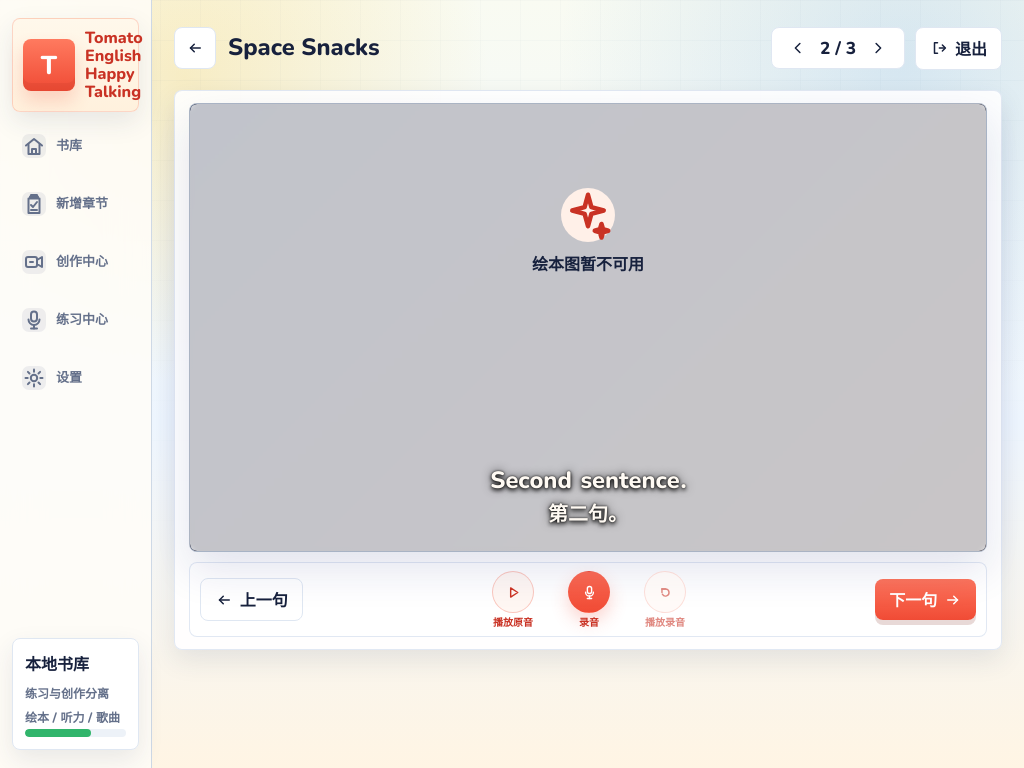
it: App › moves with silent pager controls and keeps bottom next auto-play
Expected: the heading named "Second sentence." is shown, [489, 464, 687, 496]
Click the button named "前一条句子（不自动播放）" at point(798, 48), box [784, 34, 812, 62]
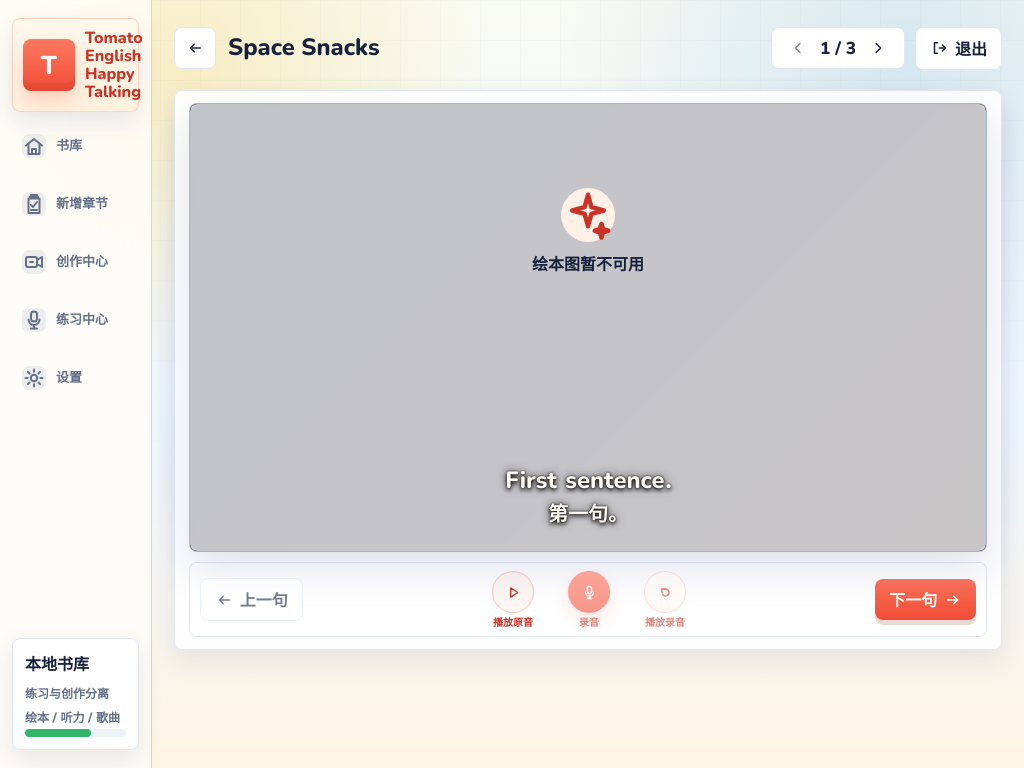
Expected: the heading named "First sentence." is shown, [504, 464, 672, 496]
Expected: the button "上一句" is disabled, [200, 578, 303, 621]
Click the button named "后一条句子（不自动播放）" at point(878, 48), box [864, 34, 892, 62]
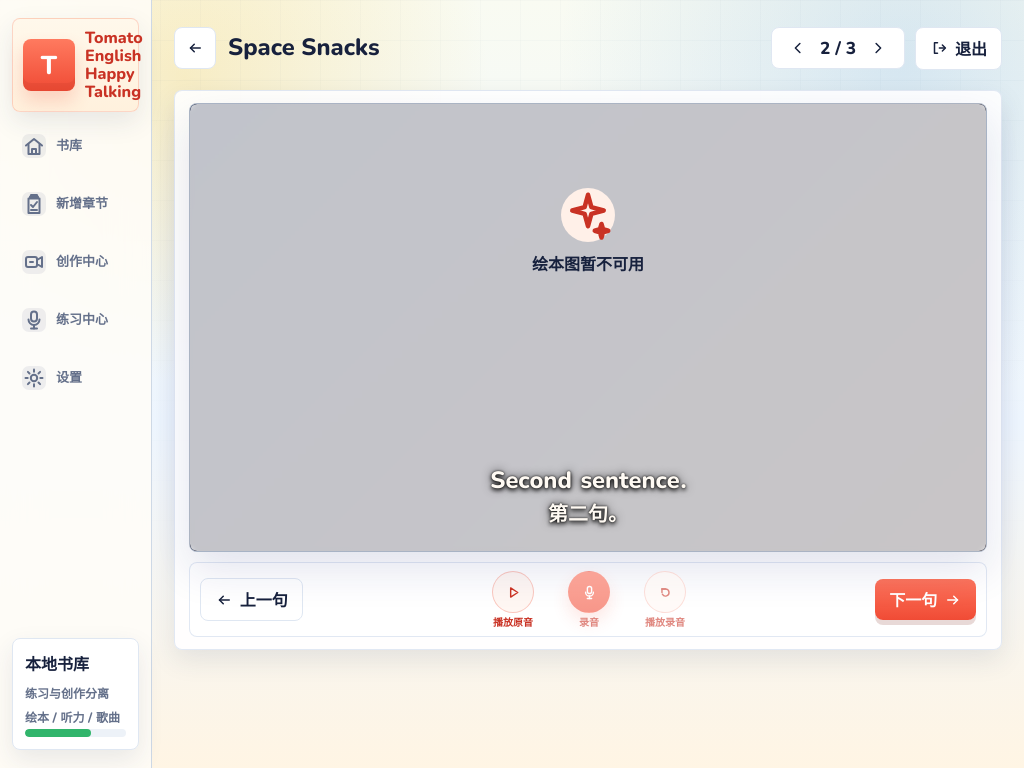
Expected: the heading named "Second sentence." is shown, [489, 464, 687, 496]
Click the button "上一句" at point(251, 600), box [200, 578, 303, 621]
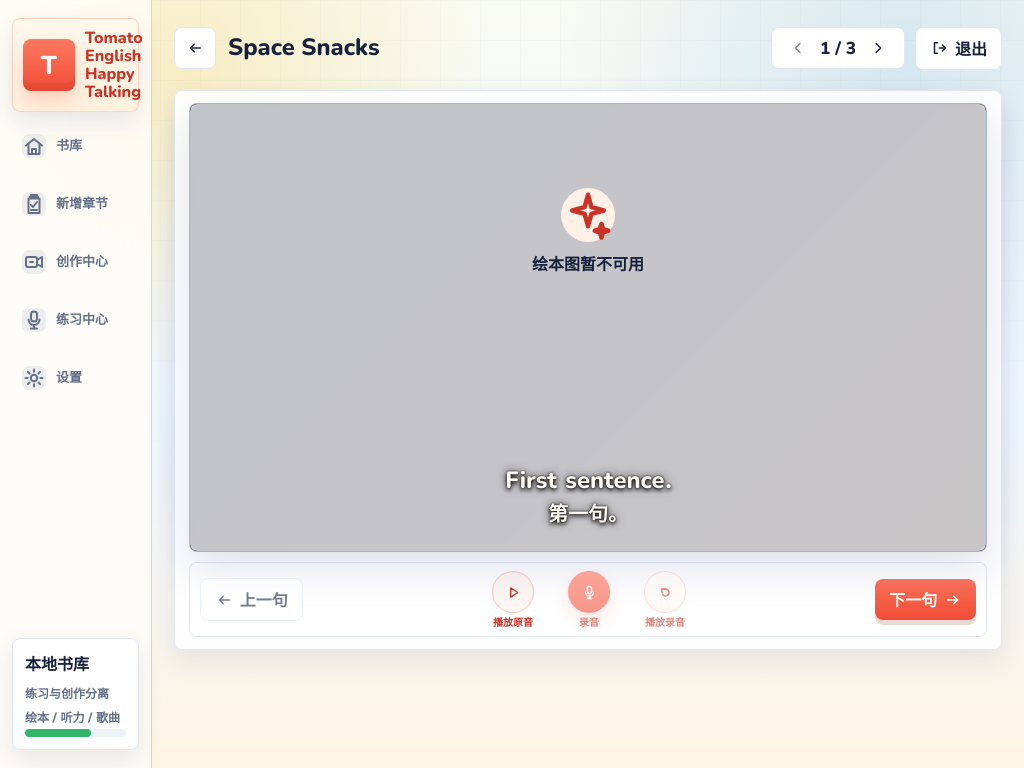
Expected: the heading named "First sentence." is shown, [504, 464, 672, 496]
Click the button "下一句" at point(926, 600), box [875, 579, 976, 620]
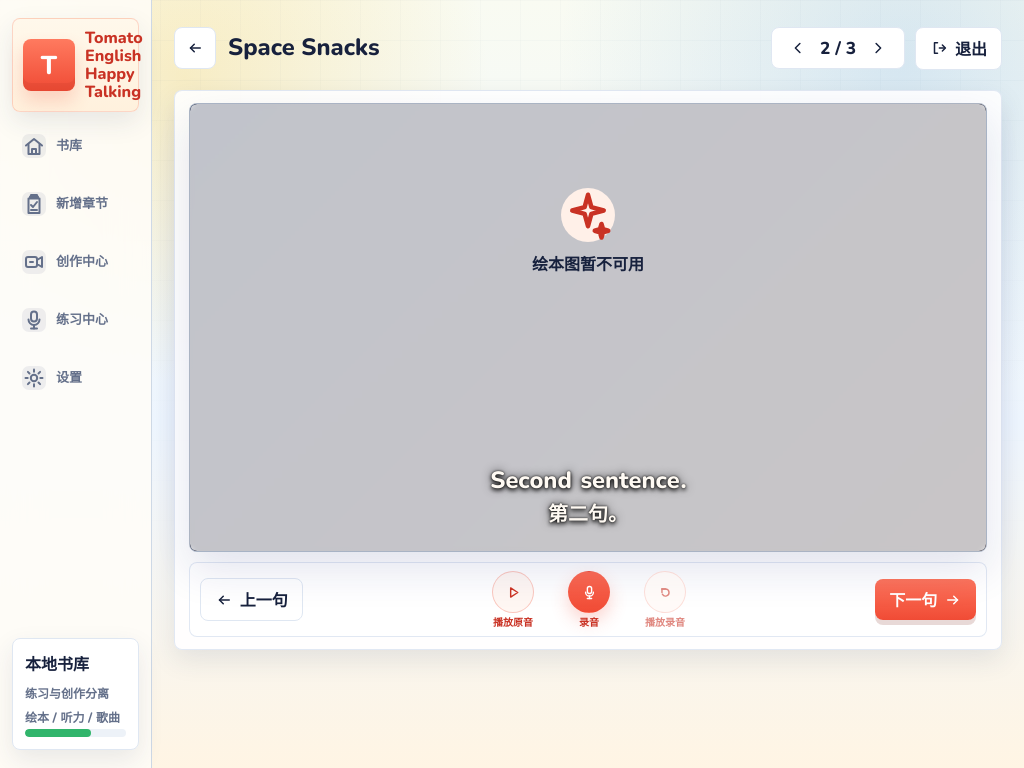
Expected: the heading named "Second sentence." is shown, [489, 464, 687, 496]
Click the button named "后一条句子（不自动播放）" at point(878, 48), box [864, 34, 892, 62]
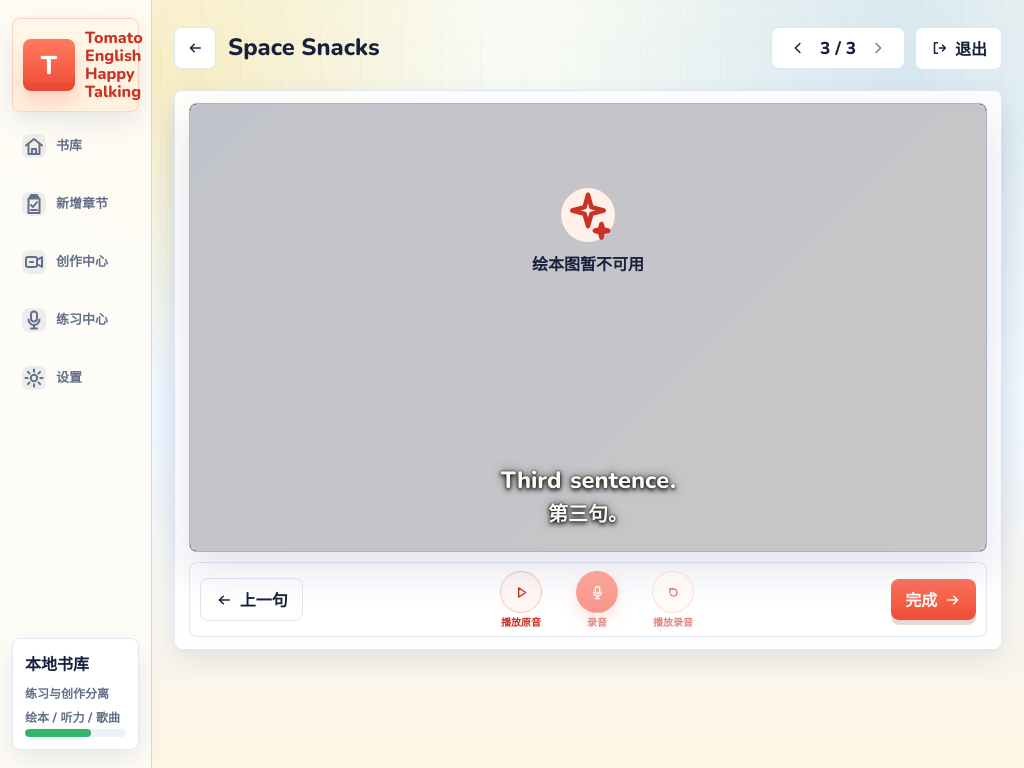
Expected: the heading named "Third sentence." is shown, [500, 464, 676, 496]
